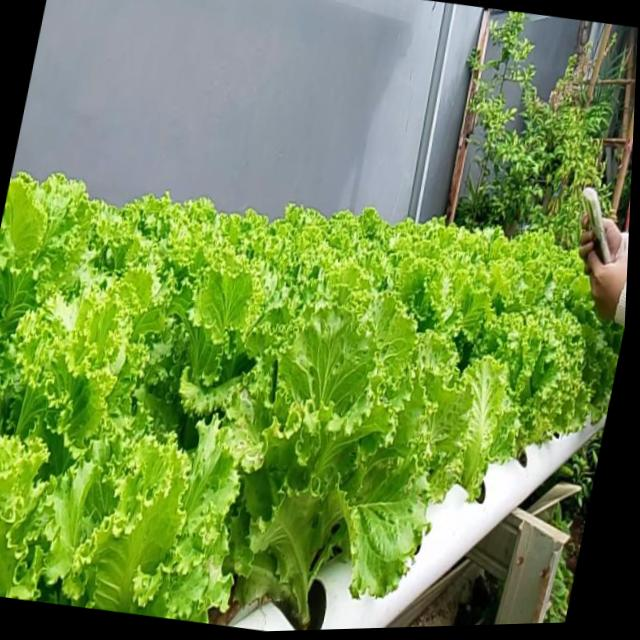Mature: (0, 171, 625, 629), (220, 318, 421, 615), (454, 274, 613, 483)
